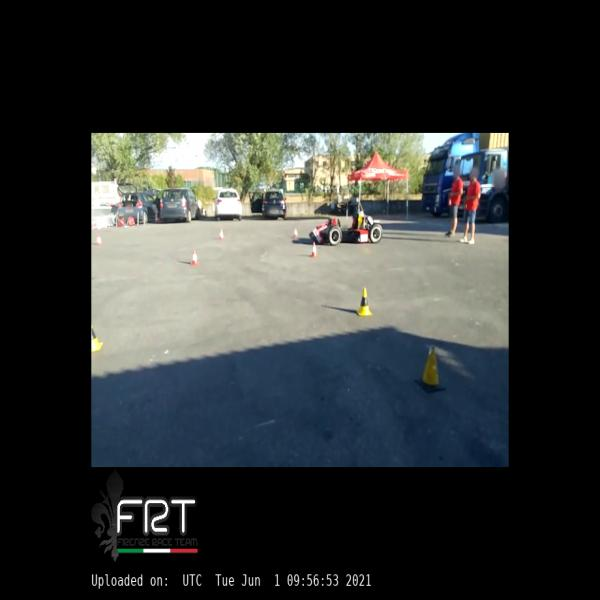large_orange_cone: (154, 210, 159, 222)
orange_cone: (191, 249, 200, 266), (310, 242, 318, 256), (218, 227, 225, 241), (95, 233, 102, 245), (292, 226, 299, 237)
unknown_cone: (415, 346, 447, 393)
yellow_cone: (356, 288, 372, 315), (91, 325, 103, 351)
